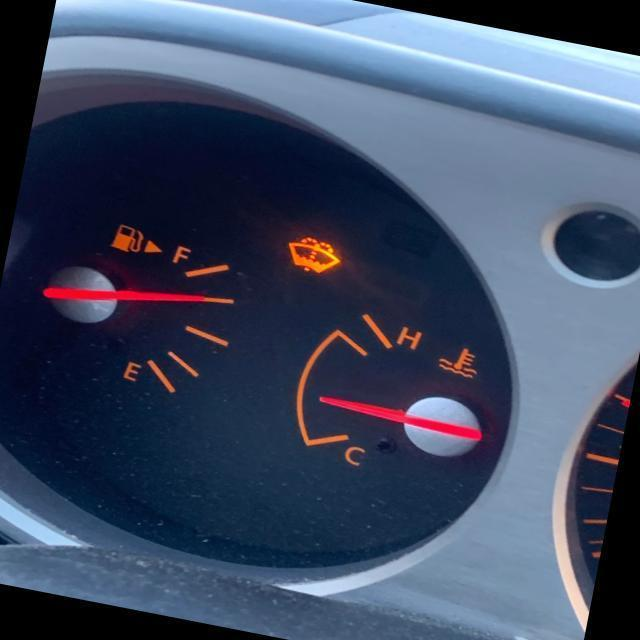High Engine Coolant Temperature: (435, 345, 479, 383)
